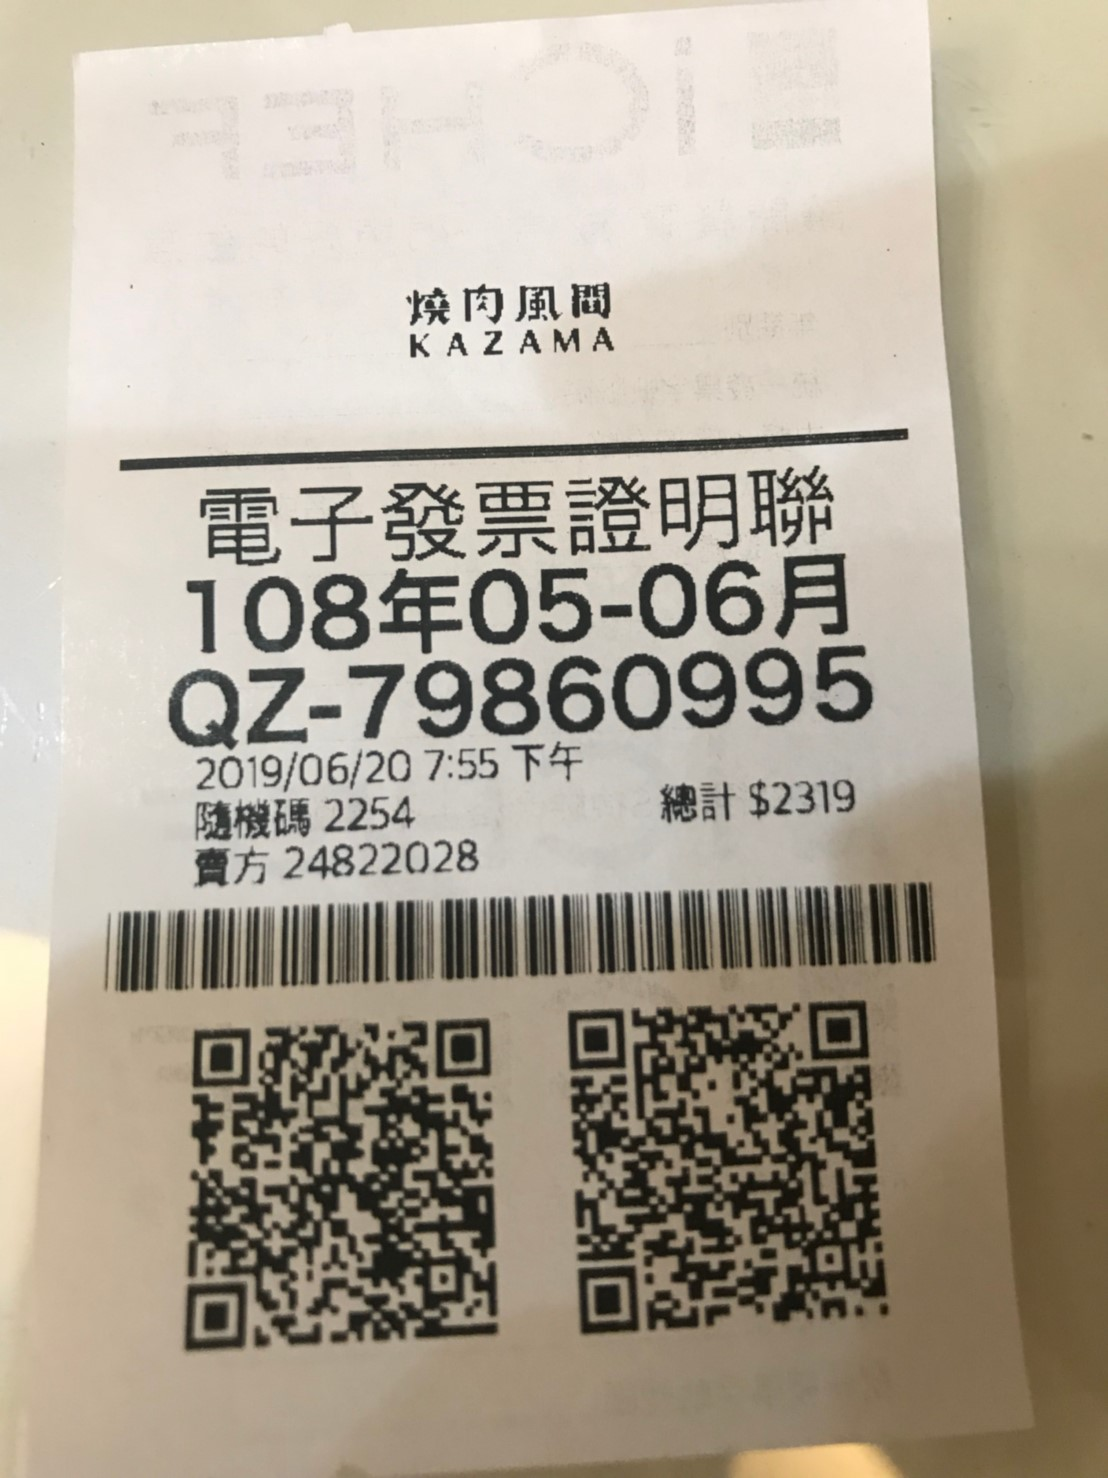Date_New: (179, 550, 848, 655)
Number_New: (348, 644, 883, 737)
